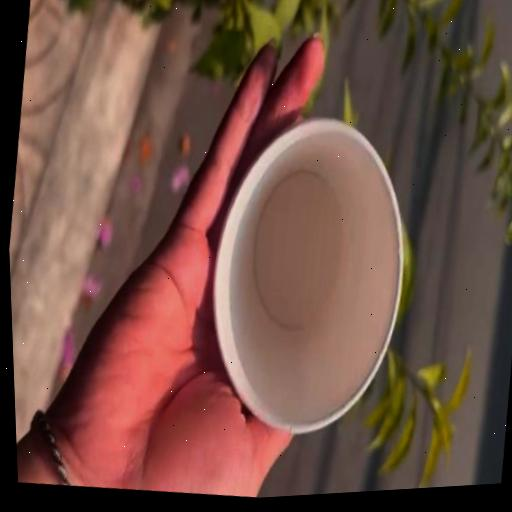ly_giay: (212, 119, 403, 433)
